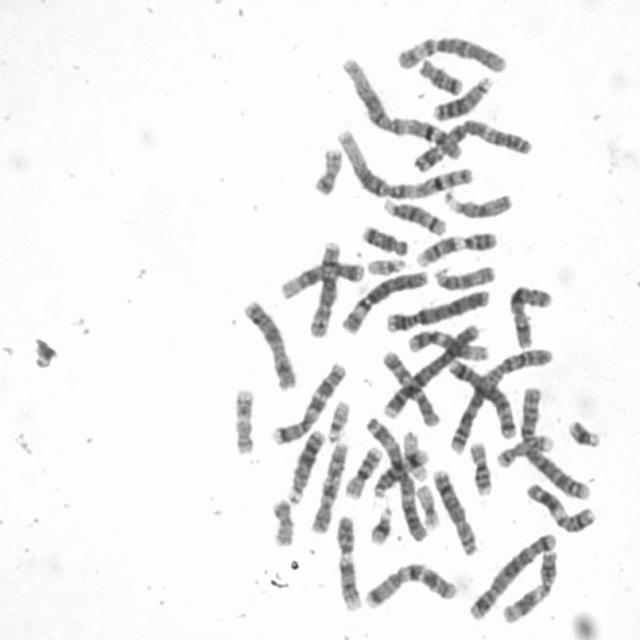A1: (336, 50, 467, 162), (330, 122, 475, 202)
A2: (443, 340, 556, 456), (514, 381, 592, 502)
A3: (360, 409, 429, 543), (405, 112, 534, 174)
B4: (378, 316, 486, 421), (379, 283, 492, 334)
B5: (464, 527, 560, 623), (442, 354, 518, 440)
C10: (376, 343, 442, 428), (304, 436, 350, 536)
C11: (496, 542, 562, 626), (521, 476, 598, 535)
C12: (275, 253, 367, 300), (402, 324, 490, 361)
C6: (335, 262, 431, 336), (390, 28, 510, 75)
C7: (266, 356, 348, 446), (360, 557, 460, 610)
C8: (428, 462, 480, 558), (304, 234, 342, 339)
C9: (410, 225, 500, 268), (330, 509, 364, 612)
D13: (282, 422, 328, 504), (428, 69, 493, 121)
D14: (367, 442, 431, 500), (378, 192, 448, 236)
D15: (439, 184, 514, 220), (428, 258, 498, 292)
E16: (339, 440, 385, 500), (464, 434, 496, 497)
E17: (492, 428, 555, 469), (227, 380, 257, 457)
E18: (412, 51, 465, 97), (356, 218, 410, 257)
F19: (398, 424, 431, 483), (411, 478, 441, 530)
F20: (307, 141, 344, 196), (266, 491, 296, 548)
G21: (364, 498, 395, 546), (562, 413, 603, 449)
G22: (323, 393, 352, 444), (362, 251, 408, 276)
X: (237, 293, 299, 392), (504, 278, 555, 349)
